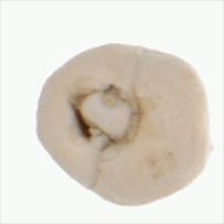L3: (71, 79, 140, 156)
L4: (36, 45, 210, 206)
